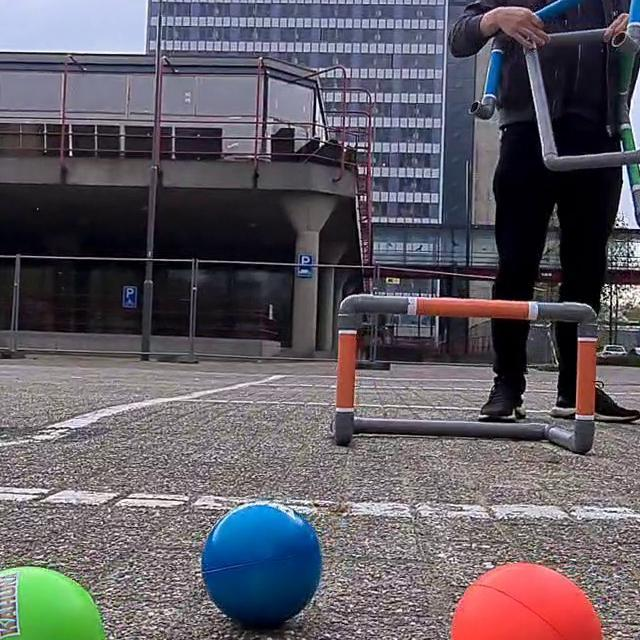ball: (194, 493, 330, 633)
